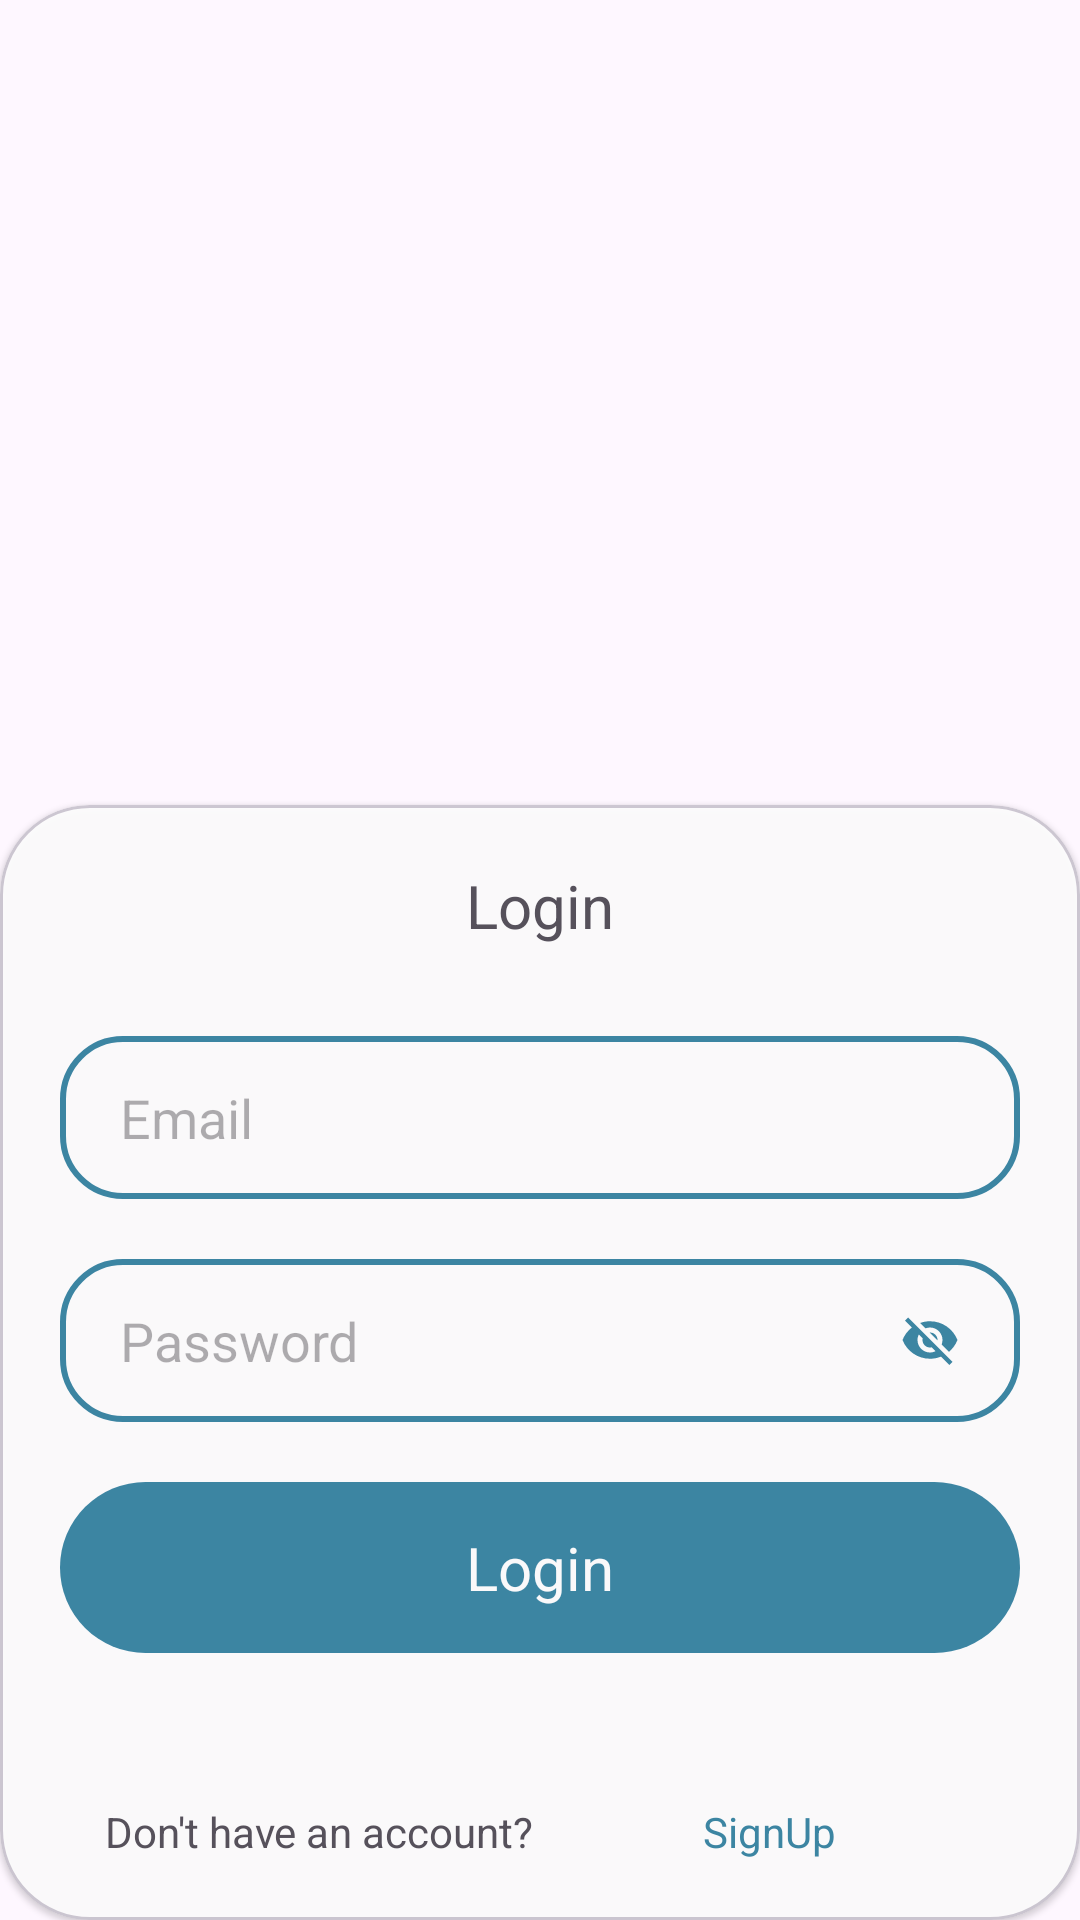

Screen size 1080x1920. Icon name, then its box in pixels as box=[x1, y1, x2, y2]:
visibility off: box=[902, 1317, 958, 1365]
